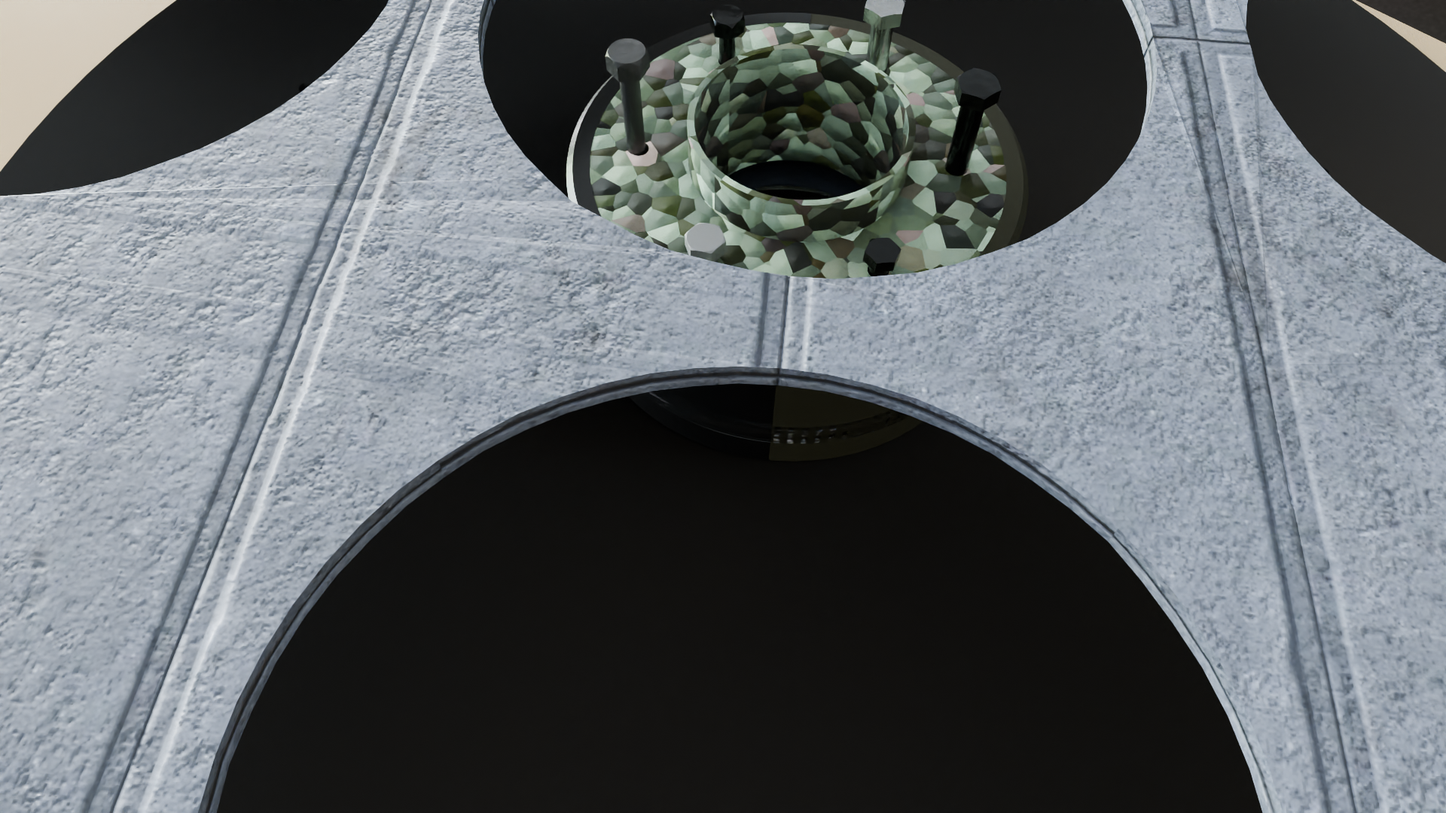bolt: (956, 68, 1002, 99), (606, 38, 649, 69), (685, 223, 726, 254), (865, 238, 901, 263), (710, 5, 745, 29), (865, 0, 905, 17)
